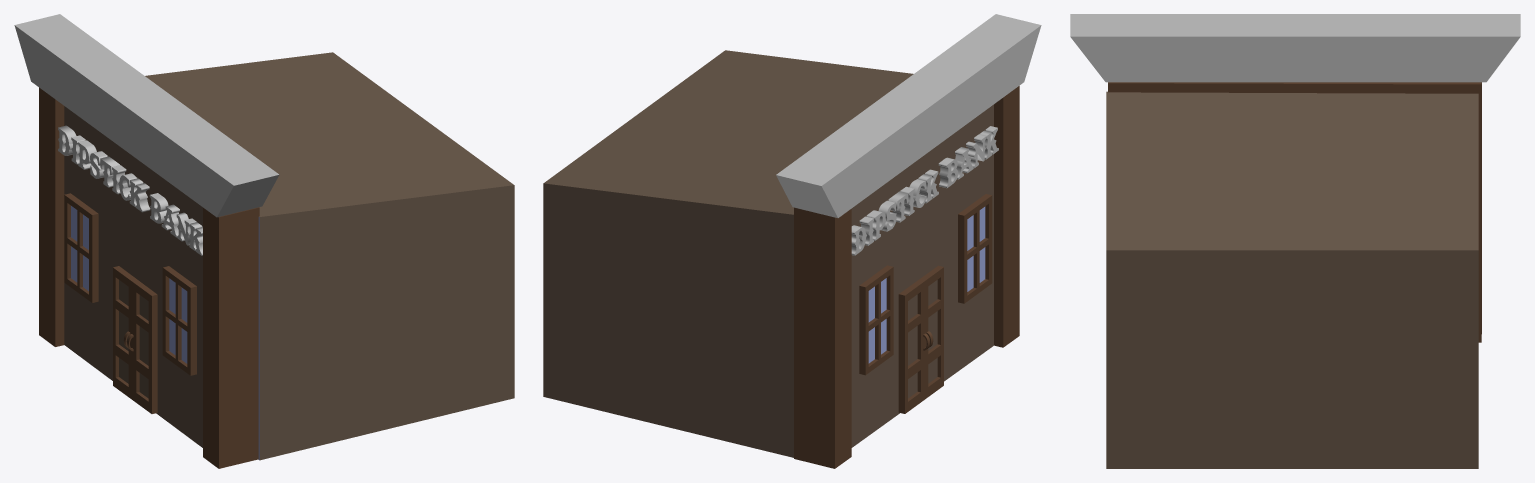
Rendered from DipstickBank.fbx.
3 renders of one model, left to right at view 1: azimuth 30°, elevation 25°; view 2: azimuth 150°, elevation 25°; view 3: azimuth 270°, elevation 25°, orthographic. The views are drawn at different scales.
Visible parts, largest first — view 1: Cube.029, Text; view 2: Cube.029, Text; view 3: Cube.029.
Part boxes in pixels (left/top/right/bottom): Cube.029: left=14, top=14, right=514, bottom=468; Text: left=58, top=125, right=202, bottom=255; Cube.029: left=543, top=14, right=1041, bottom=468; Text: left=851, top=126, right=998, bottom=255; Cube.029: left=1070, top=14, right=1520, bottom=468.
Bounding box in the file's own units: 2274 × 2173 × 2902.
